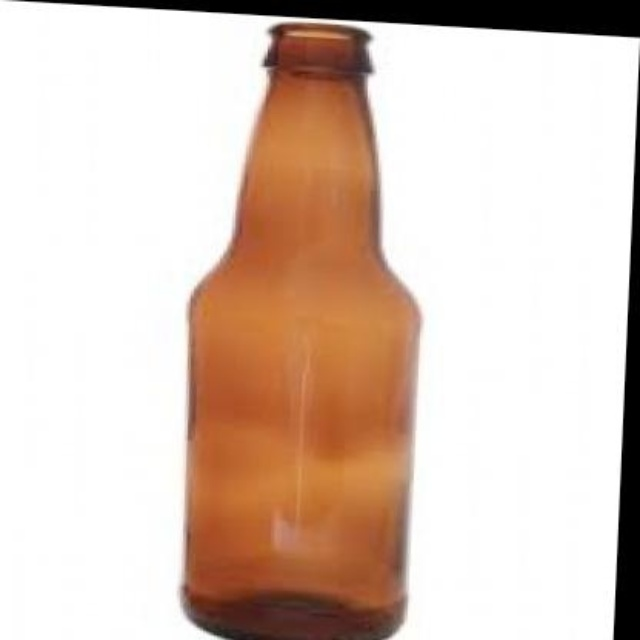trash: (183, 23, 418, 638)
